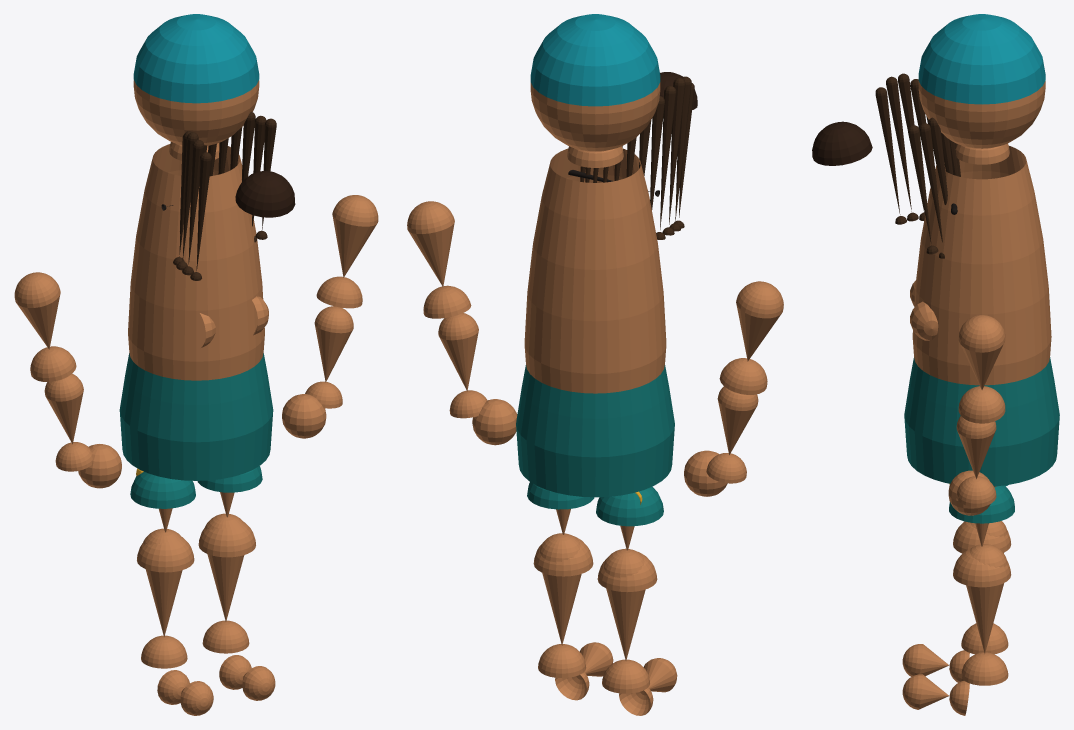
Rendered from surfer_character.obj.
3 renders of one model, left to right at view 1: azimuth 30°, elevation 25°; view 2: azimuth 150°, elevation 25°; view 3: azimuth 270°, elevation 25°, orthographic. The views are drawn at different scales.
Parts seen in each view (by area): view 1: torso, shorts, bandana, head, upper_arm_-1, upper_arm_1, calf_1, calf_-1, forearm_-1, forearm_1, beard, short_leg_-1 (+13 smaller); view 2: torso, shorts, bandana, head, upper_arm_-1, upper_arm_1, calf_-1, calf_1, forearm_1, forearm_-1, short_leg_-1, hand_1 (+11 smaller); view 3: torso, shorts, bandana, head, upper_arm_1, calf_1, forearm_1, beard, foot_1, thigh_1, foot_-1, calf_-1 (+12 smaller).
Boxes of the visible parts, x1=… form: torso: x1=128, y1=144, x2=264, y2=380; shorts: x1=119, y1=353, x2=273, y2=480; bandana: x1=133, y1=14, x2=259, y2=103; head: x1=133, y1=80, x2=259, y2=145; upper_arm_-1: x1=14, y1=272, x2=76, y2=381; upper_arm_1: x1=316, y1=195, x2=378, y2=308; calf_1: x1=202, y1=513, x2=249, y2=653; calf_-1: x1=141, y1=528, x2=187, y2=668; forearm_-1: x1=44, y1=373, x2=92, y2=471; forearm_1: x1=305, y1=306, x2=353, y2=408; beard: x1=235, y1=170, x2=295, y2=217; short_leg_-1: x1=130, y1=471, x2=195, y2=508; torso: x1=524, y1=148, x2=666, y2=393; shorts: x1=516, y1=365, x2=674, y2=497; bandana: x1=530, y1=14, x2=660, y2=106; head: x1=530, y1=82, x2=660, y2=151; upper_arm_-1: x1=719, y1=281, x2=783, y2=394; upper_arm_1: x1=407, y1=201, x2=471, y2=318; calf_-1: x1=602, y1=548, x2=649, y2=693; calf_1: x1=538, y1=533, x2=586, y2=677; forearm_1: x1=438, y1=313, x2=487, y2=418; forearm_-1: x1=706, y1=386, x2=758, y2=483; short_leg_-1: x1=596, y1=486, x2=663, y2=526; hand_1: x1=472, y1=399, x2=517, y2=445; torso: x1=912, y1=146, x2=1051, y2=385; shorts: x1=904, y1=357, x2=1059, y2=486; bandana: x1=918, y1=14, x2=1045, y2=104; head: x1=918, y1=81, x2=1045, y2=148; upper_arm_1: x1=958, y1=315, x2=1005, y2=423; calf_1: x1=961, y1=544, x2=1008, y2=685; forearm_1: x1=956, y1=416, x2=996, y2=507; beard: x1=812, y1=121, x2=872, y2=165; foot_1: x1=902, y1=674, x2=969, y2=715; thigh_1: x1=953, y1=486, x2=1011, y2=587; foot_-1: x1=902, y1=644, x2=969, y2=682; calf_-1: x1=961, y1=521, x2=1008, y2=654.
Bounding box in the file's own units: 1.51 × 2.7 × 0.8916.
